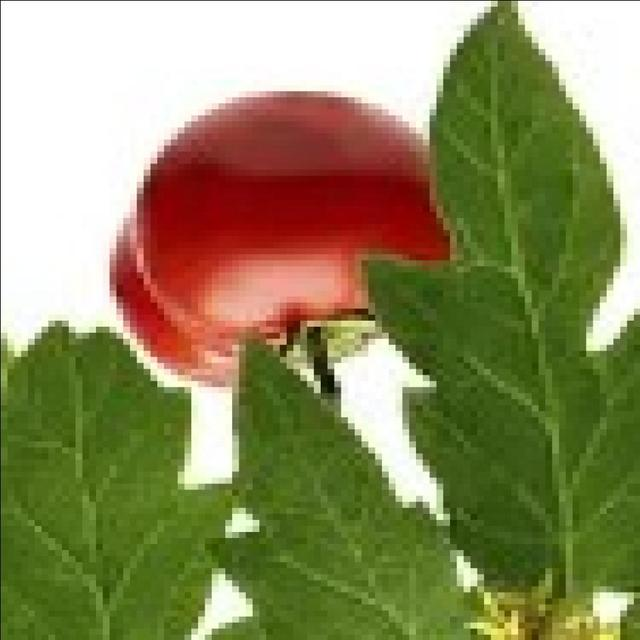Healthy Fruit: (77, 58, 312, 263)
